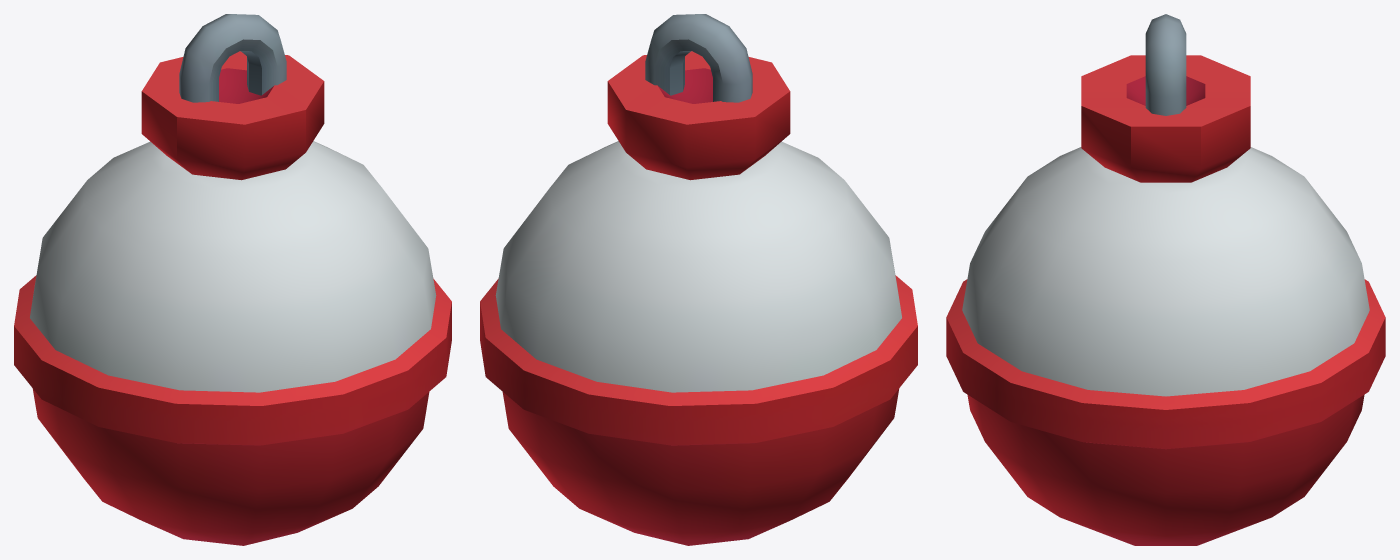
File: fishing_floater.glb
3 views of the same model, side by side, from view 1: azimuth 30°, elevation 25°; view 2: azimuth 150°, elevation 25°; view 3: azimuth 270°, elevation 25° (orthographic).
Visible parts, largest first — view 1: fishing_floater; view 2: fishing_floater; view 3: fishing_floater.
Part boxes in pixels (left/top/right/bottom): fishing_floater: left=14, top=14, right=451, bottom=545; fishing_floater: left=480, top=14, right=917, bottom=545; fishing_floater: left=946, top=14, right=1385, bottom=545.
Bounding box in the file's own units: 0.4142 × 0.5251 × 0.4142.
1 material, 1 textured.
